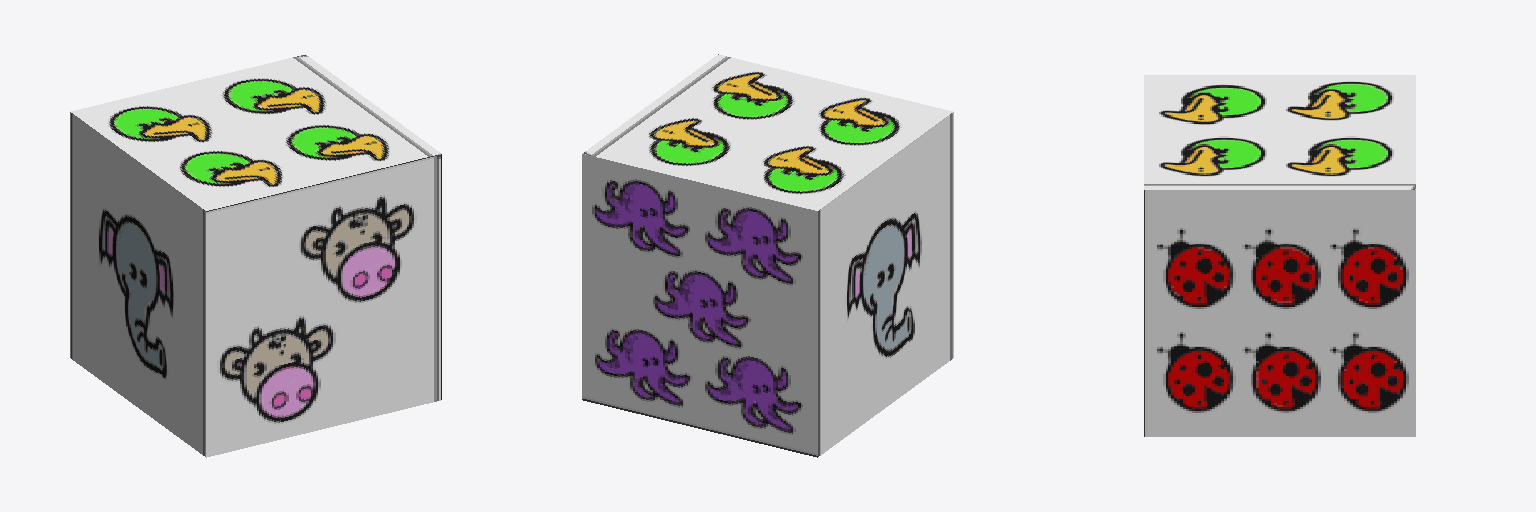
3 renders of one model, left to right at view 1: azimuth 30°, elevation 25°; view 2: azimuth 150°, elevation 25°; view 3: azimuth 270°, elevation 25°, orthographic.
Visible parts, largest first — view 1: Box001; view 2: Box001; view 3: Box001.
Boxes of the visible parts, x1,y1,x2,y2 form: Box001: [70, 54, 441, 457]; Box001: [582, 54, 953, 457]; Box001: [1144, 75, 1415, 436].
Bounding box in the file's own units: 18.19 × 18.19 × 18.19.
Materials: 1 (1 with a texture image).